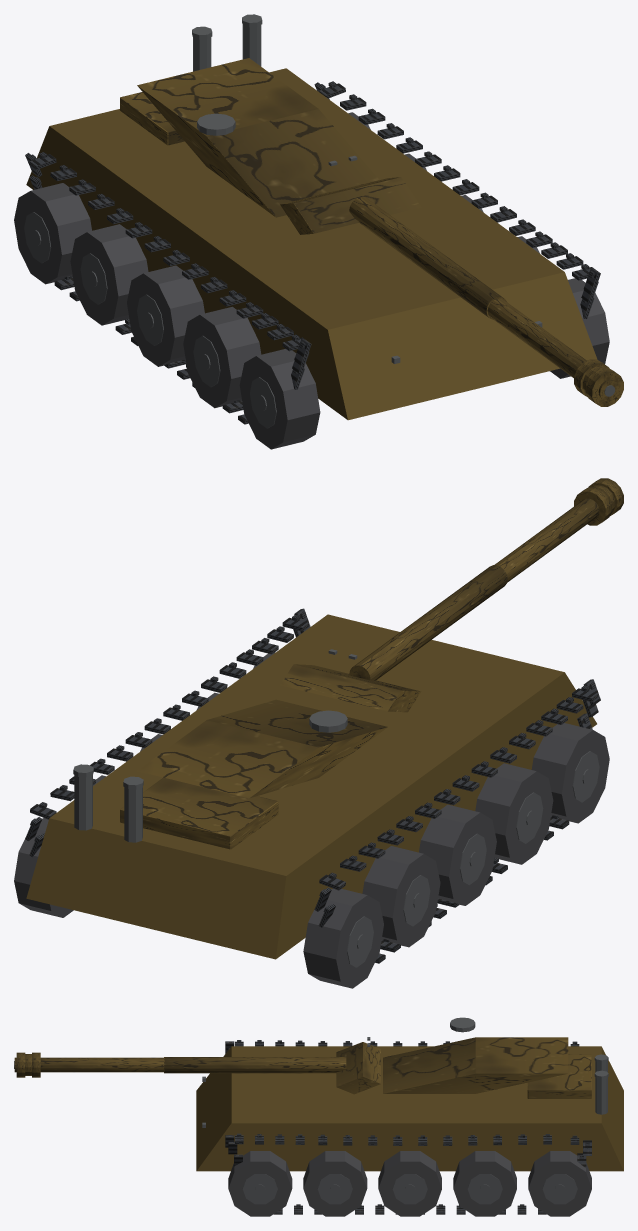
The model's file is lance_LOD1.glb.
3 views of the same model, one above another, from view 1: azimuth 30°, elevation 25°; view 2: azimuth 150°, elevation 25°; view 3: azimuth 270°, elevation 25° (orthographic). The views are drawn at different scales.
Visible parts, largest first — view 1: HullMesh, Wheels_L, CasemateMesh, TrackL, TrackR, Gun_tube1, Gun_tube2, Wheels_R, Gun_brk1, exh1, exh-1; view 2: HullMesh, Wheels_L, CasemateMesh, TrackL, TrackR, Gun_tube1, Gun_tube2, Wheels_R, exh-1, exh1, Gun_brk2; view 3: HullMesh, Wheels_R, CasemateMesh, Gun_tube1, TrackR, Gun_tube2, TrackL, exh1.
Boxes of the visible parts, x1,y1,x2,y2 form: HullMesh: (26, 68, 597, 420); Wheels_L: (14, 183, 320, 449); CasemateMesh: (137, 58, 421, 234); TrackL: (25, 152, 311, 424); TrackR: (314, 81, 600, 318); Gun_tube1: (349, 196, 506, 319); Gun_tube2: (487, 298, 618, 400); Wheels_R: (348, 112, 609, 378); Gun_brk1: (585, 368, 623, 406); exh1: (242, 25, 261, 66); exh-1: (193, 37, 211, 71); HullMesh: (26, 614, 596, 959); Wheels_L: (303, 723, 609, 988); CasemateMesh: (137, 649, 421, 798); TrackL: (314, 679, 600, 963); TrackR: (25, 608, 310, 857); Gun_tube1: (349, 565, 507, 680); Gun_tube2: (494, 498, 599, 582); Wheels_R: (14, 652, 275, 917); exh-1: (124, 787, 142, 842); exh1: (74, 775, 92, 830); Gun_brk2: (574, 486, 612, 525); HullMesh: (196, 1046, 623, 1171); Wheels_R: (228, 1151, 591, 1216); CasemateMesh: (336, 1017, 568, 1094); Gun_tube1: (164, 1057, 346, 1073); TrackR: (225, 1133, 591, 1214); Gun_tube2: (14, 1057, 163, 1072); TrackL: (225, 1040, 579, 1053); exh1: (595, 1077, 607, 1114).
Bounding box in the file's own units: 3.91 × 2.14 × 9.56.
5 materials, 3 textured.
